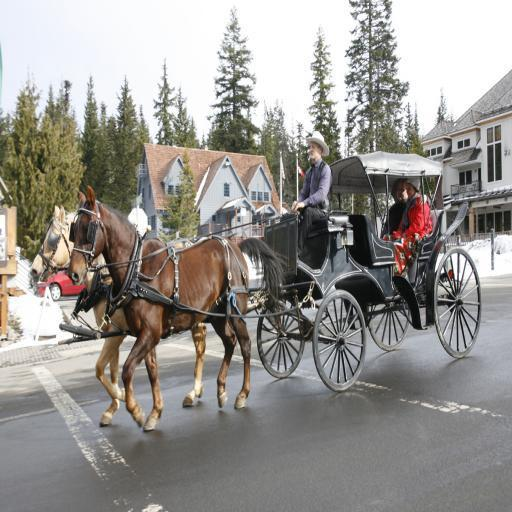horse: (66, 183, 292, 433), (28, 202, 206, 428)
